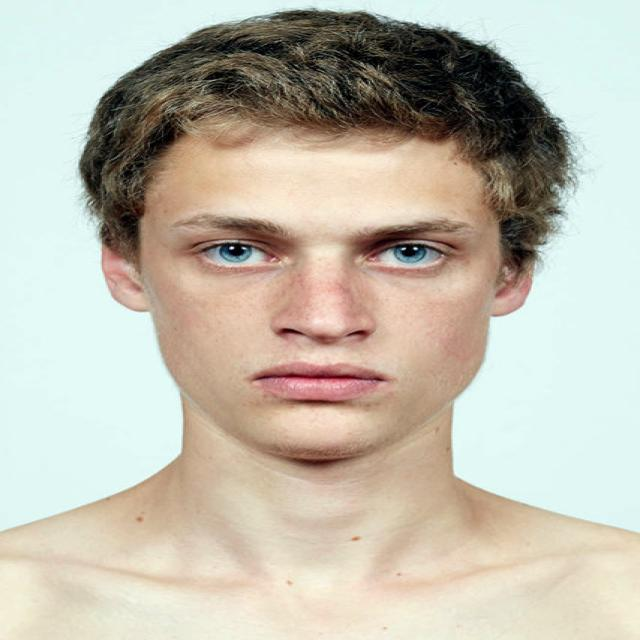front: (130, 181, 517, 443)
